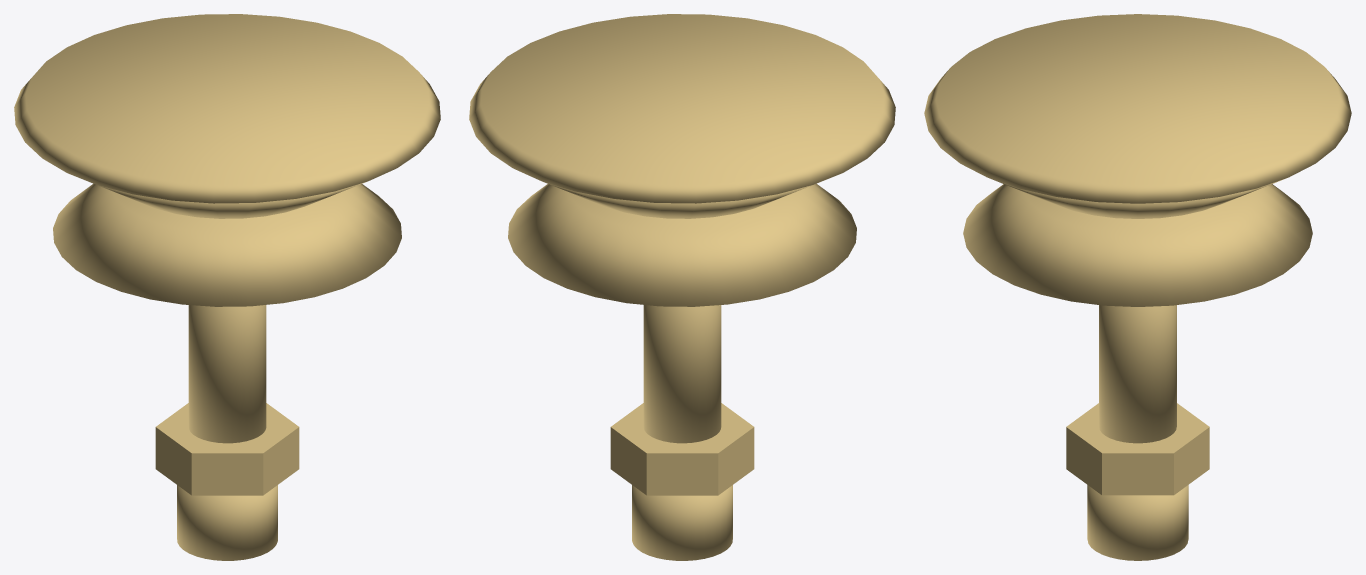
File: nozzle-dome.glb
3 views of the same model, side by side, from view 1: azimuth 30°, elevation 25°; view 2: azimuth 150°, elevation 25°; view 3: azimuth 270°, elevation 25° (orthographic).
Visible parts, largest first — view 1: Тюльпан; view 2: Тюльпан; view 3: Тюльпан.
Part boxes in pixels (x1,y1,x2,y2): Тюльпан: (14, 14, 440, 560); Тюльпан: (469, 14, 895, 560); Тюльпан: (924, 14, 1351, 560).
Bounding box in the file's own units: 0.11 × 0.125 × 0.11.
